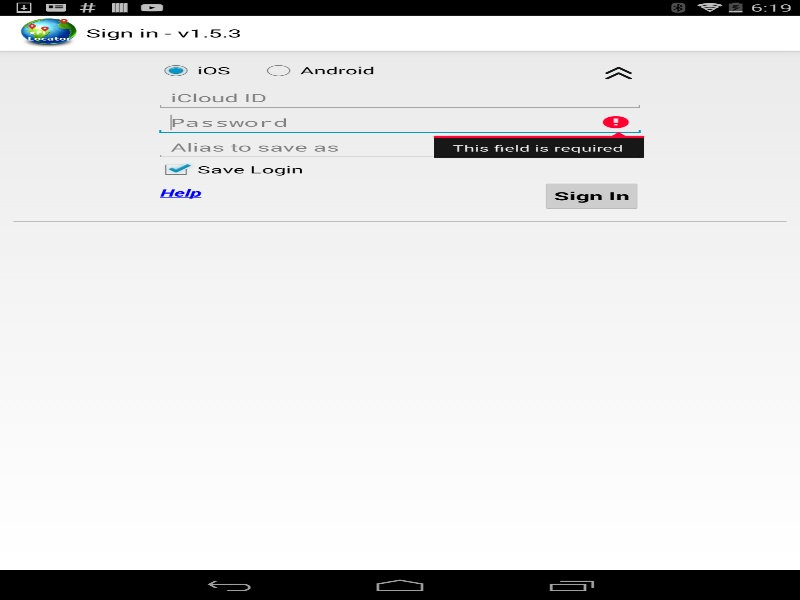Button: (540, 180, 642, 210)
Input: (154, 85, 645, 110), (154, 110, 645, 135), (154, 135, 645, 159)
